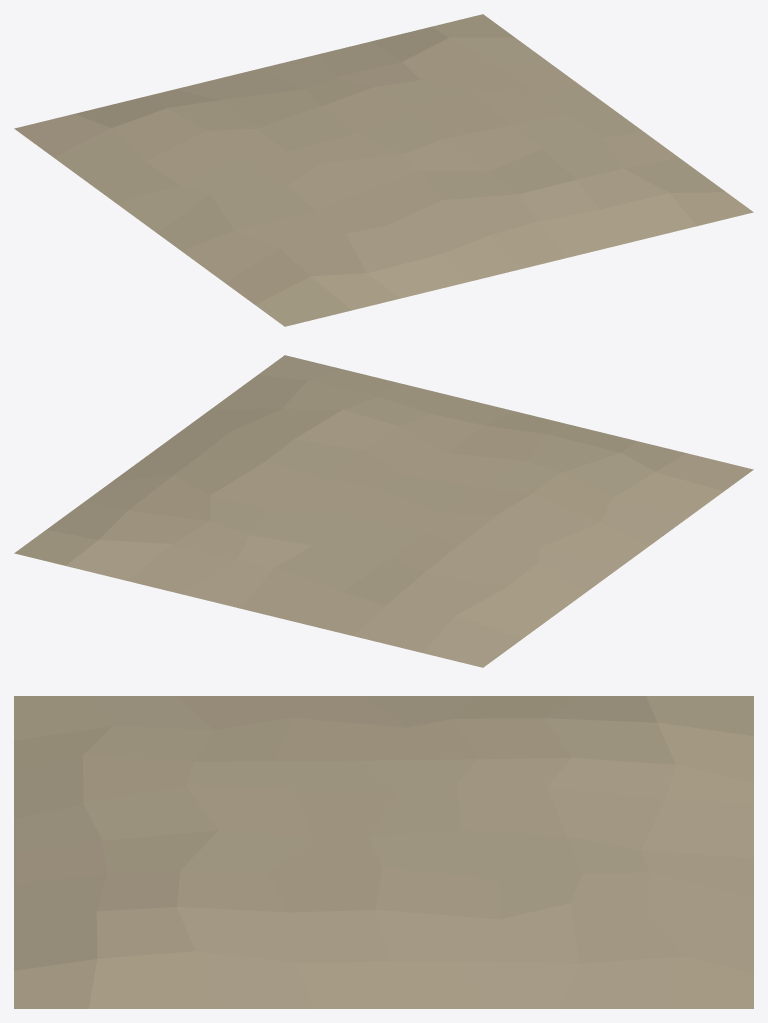
The model's file is SM_SB_Kit_RockCap.fbx.
3 views of the same model, one above another, from view 1: azimuth 30°, elevation 25°; view 2: azimuth 150°, elevation 25°; view 3: azimuth 270°, elevation 25° (orthographic). The views are drawn at different scales.
Parts seen in each view (by area): view 1: SM_SB_Kit_RockCap; view 2: SM_SB_Kit_RockCap; view 3: SM_SB_Kit_RockCap.
Boxes of the visible parts, bbox=[...] form: SM_SB_Kit_RockCap: bbox=[14, 14, 753, 326]; SM_SB_Kit_RockCap: bbox=[14, 355, 753, 667]; SM_SB_Kit_RockCap: bbox=[14, 696, 753, 1008].
Bounding box in the file's own units: 430 × 430 × 15.46.
